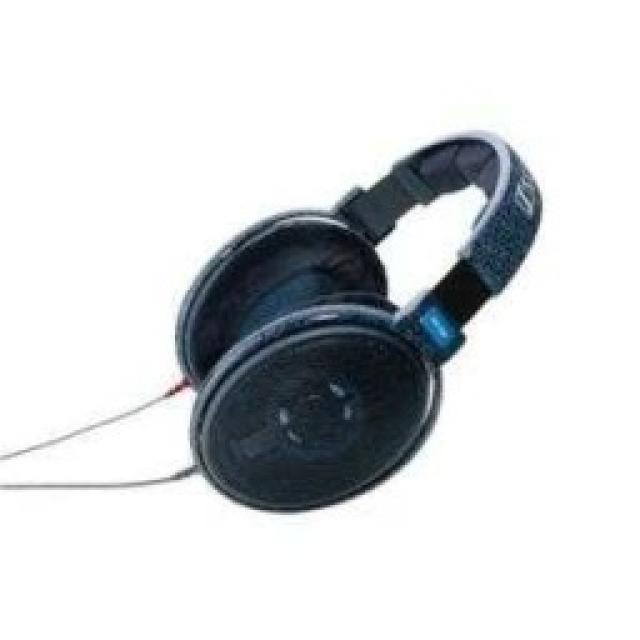headphones: (170, 125, 542, 513)
